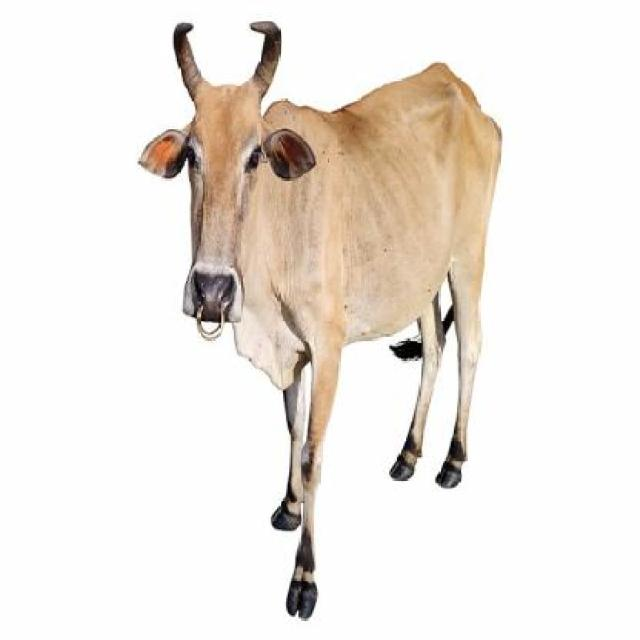Cow: (138, 20, 504, 615)
